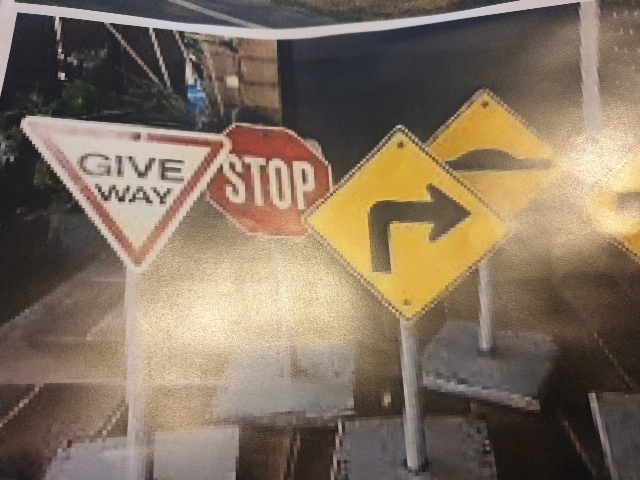giveway: (26, 107, 224, 253)
right: (315, 139, 498, 301)
stop: (203, 121, 334, 241)
